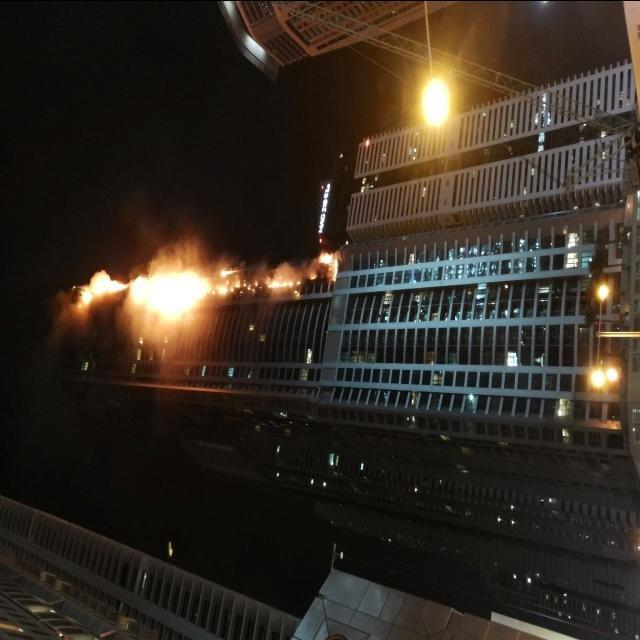Fire: (48, 215, 348, 335)
